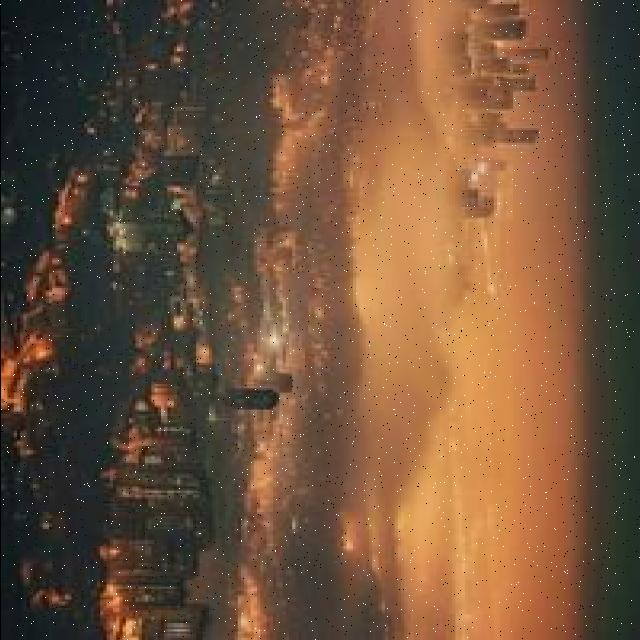road collapse: (0, 2, 509, 640)
